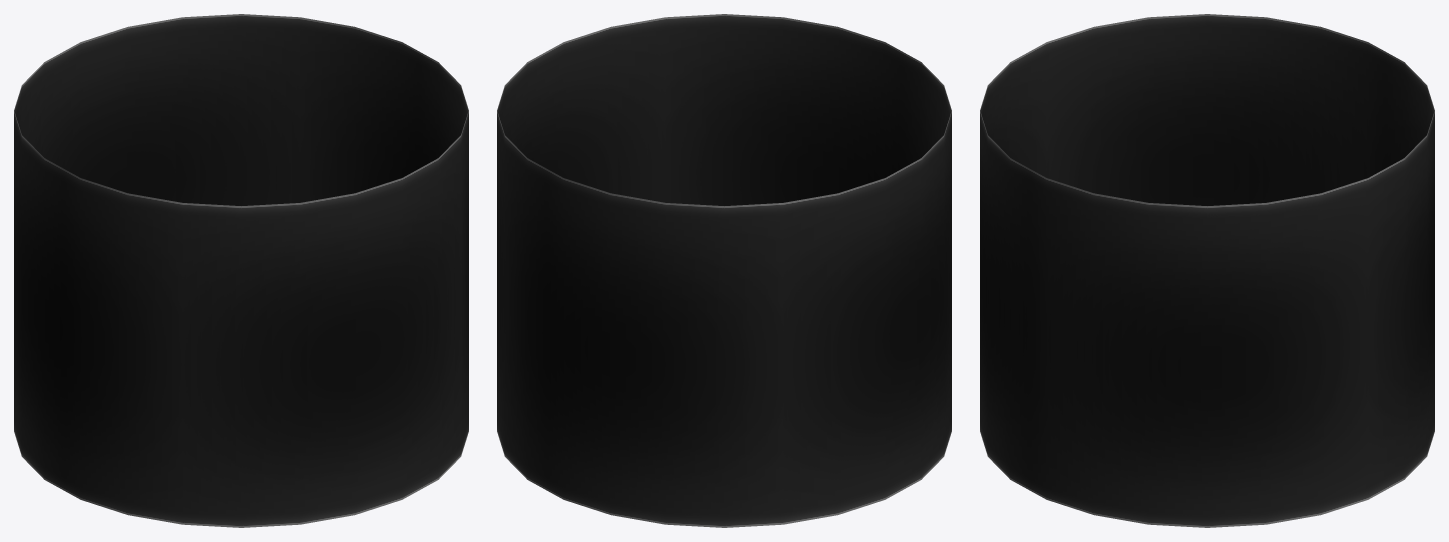
The model's file is yuanzhu01.FBX.
3 views of the same model, side by side, from view 1: azimuth 30°, elevation 25°; view 2: azimuth 150°, elevation 25°; view 3: azimuth 270°, elevation 25° (orthographic).
Parts seen in each view (by area): view 1: Cone001; view 2: Cone001; view 3: Cone001.
Boxes of the visible parts, <box> form: Cone001: <box>14,14,468,527</box>; Cone001: <box>497,14,951,527</box>; Cone001: <box>980,14,1434,527</box>.
Size of the model in its own units: 58.73 by 45.86 by 58.73.
